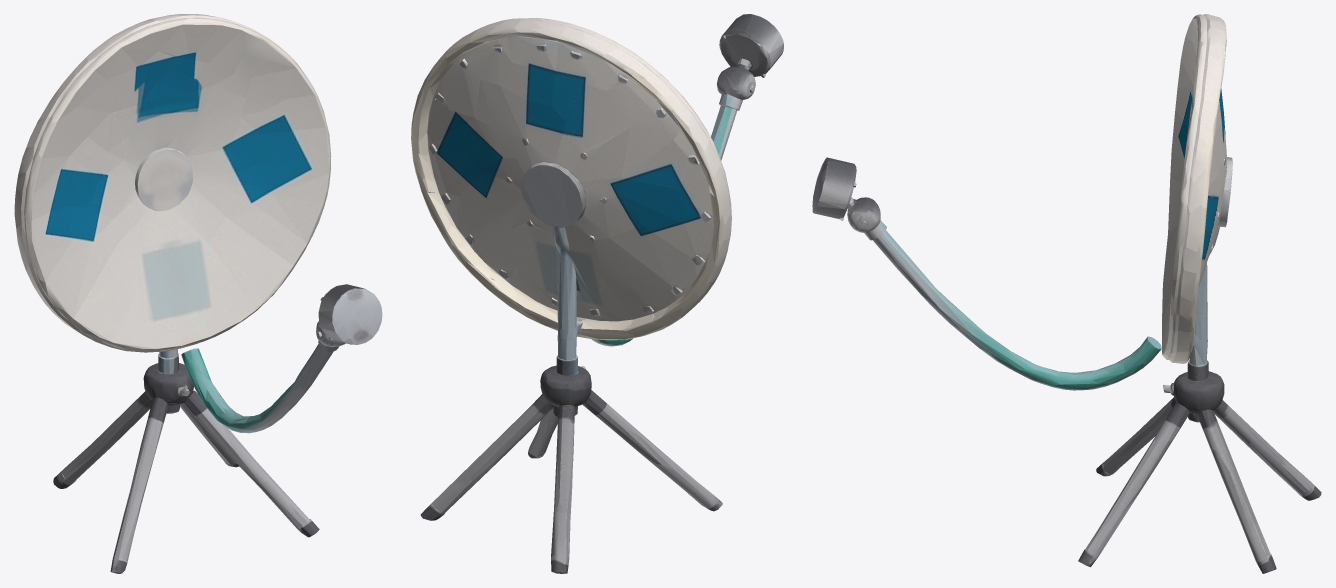
File: dish.glb
3 views of the same model, side by side, from view 1: azimuth 30°, elevation 25°; view 2: azimuth 150°, elevation 25°; view 3: azimuth 270°, elevation 25° (orthographic).
Bounding box in the file's own units: 1.24 × 1.9 × 1.78.
1 material, 1 textured.
